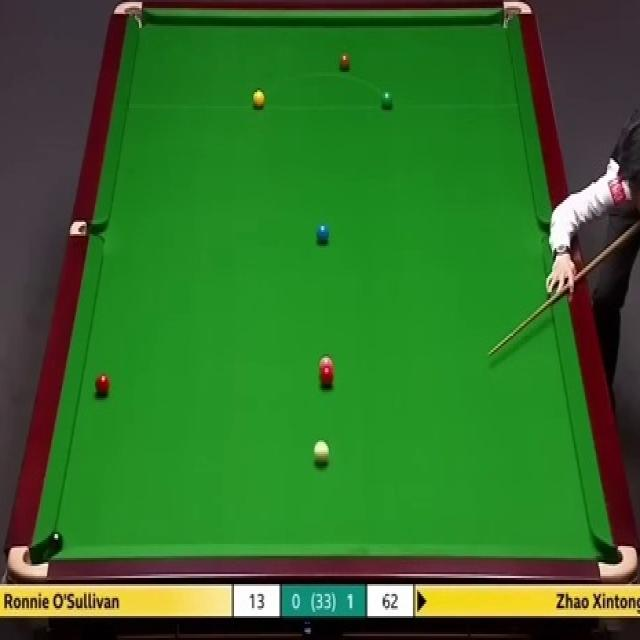black-ball: (50, 533, 63, 554)
blue-ball: (316, 222, 330, 243)
brown-ball: (338, 52, 351, 74)
green-ball: (380, 89, 393, 110)
pink-ball: (317, 356, 334, 366)
red-ball: (94, 373, 111, 398), (319, 368, 333, 389)
white-ball: (312, 439, 329, 465)
yellow-ball: (253, 90, 265, 110)
